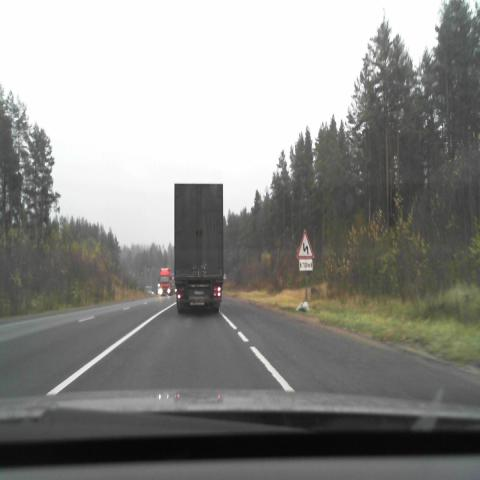1_12_2: (297, 228, 314, 258)
